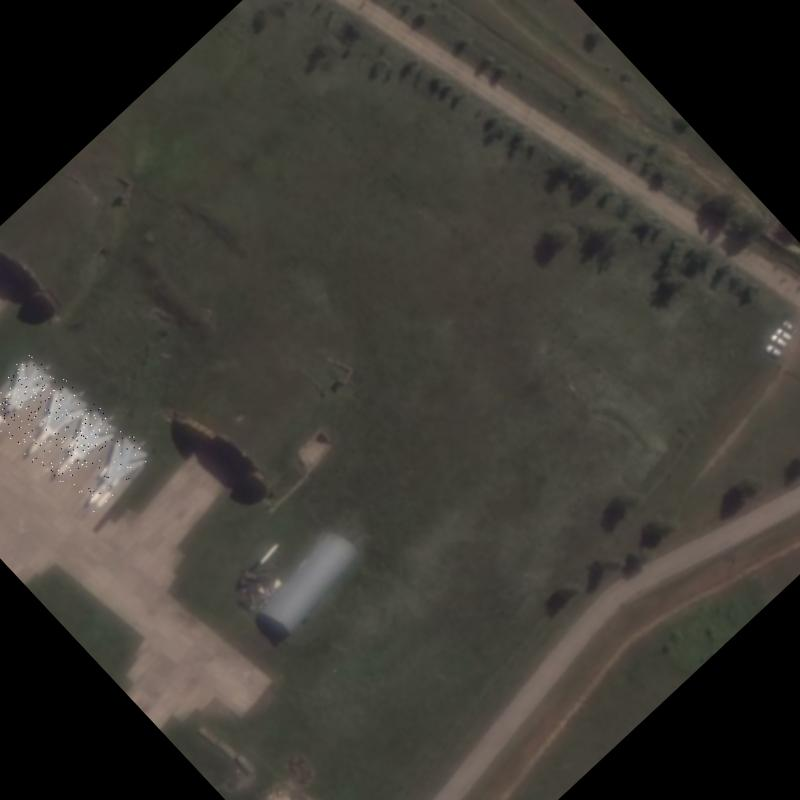A20: (5, 377, 92, 462), (67, 428, 154, 513), (37, 402, 123, 486), (0, 351, 57, 435)
